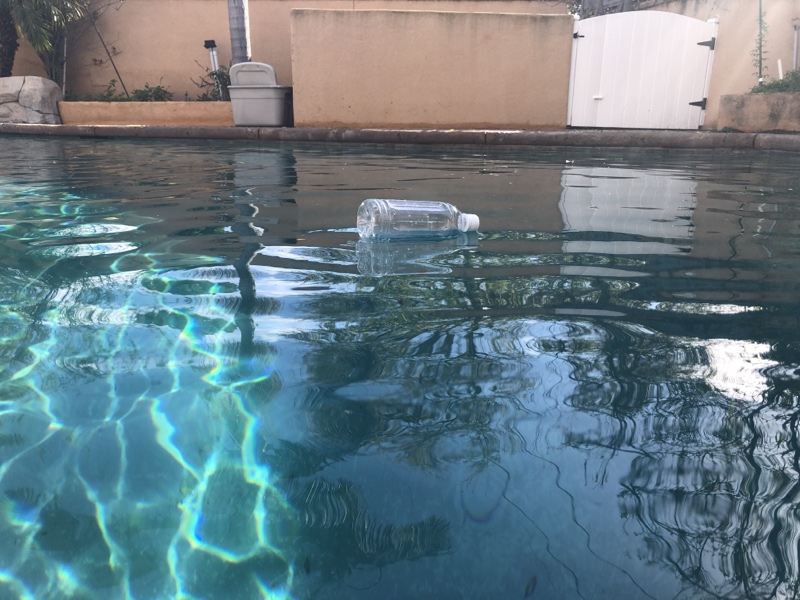Plastic Bottle: (353, 193, 481, 245)
